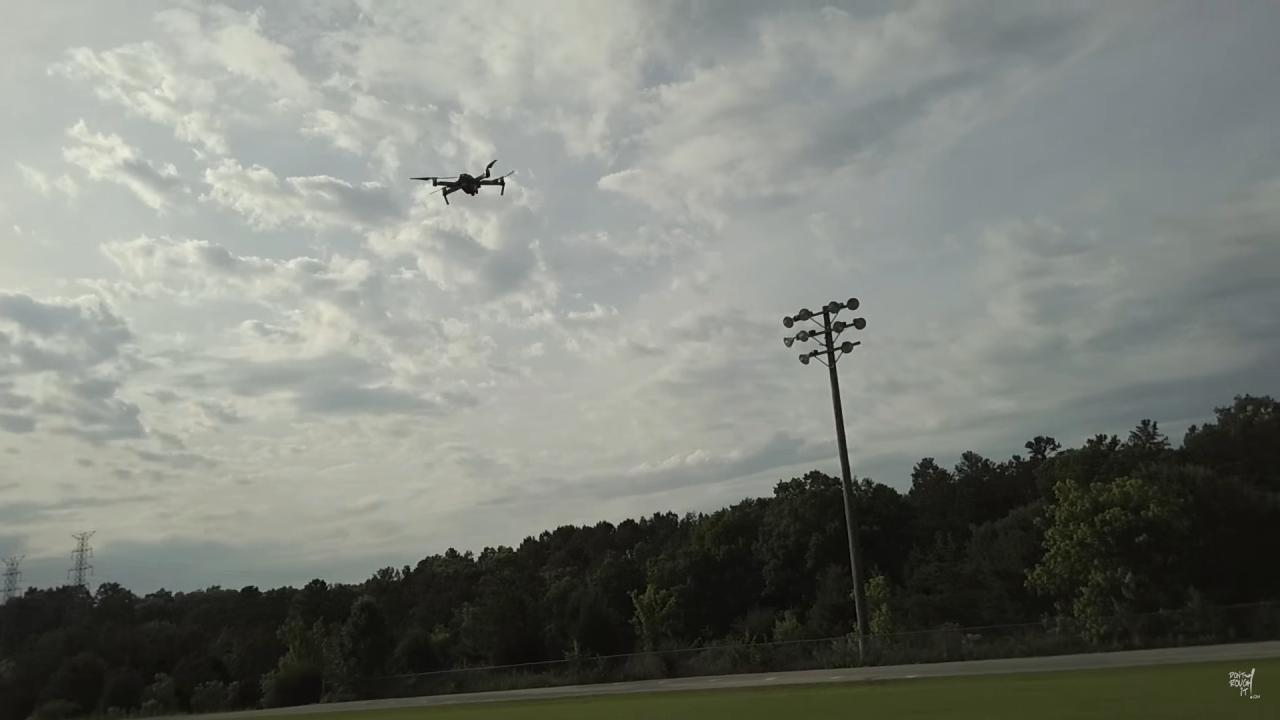Drone: (400, 148, 527, 216)
